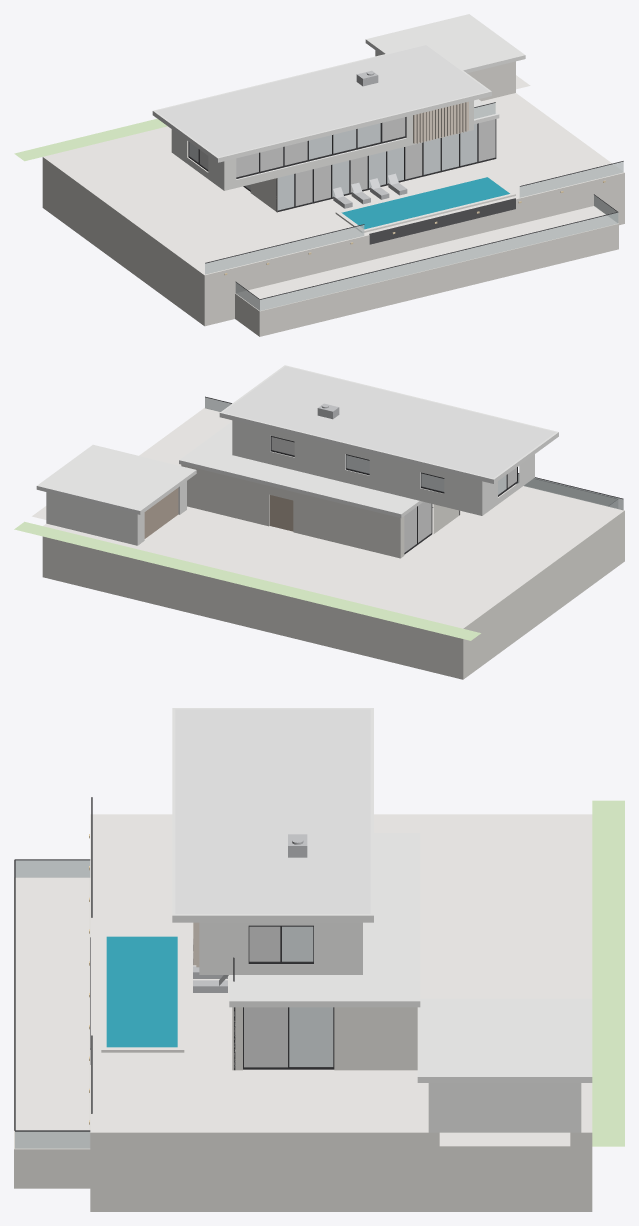
The model's file is mansion_w150a.glb.
The picture shows the model from 3 angles, top to bottom: view 1: azimuth 30°, elevation 25°; view 2: azimuth 150°, elevation 25°; view 3: azimuth 270°, elevation 25°; orthographic projection. The views are drawn at different scales.
Parts seen in each view (by area): view 1: mansion_w150a_Site, mansion_w150a_Walls2, mansion_w150a_Roof, mansion_w150a_Clear, mansion_w150a_Trim, mansion_w150a_Glass, mansion_w150a_WindowsLit, mansion_w150a_Water, mansion_w150a_Walls, mansion_w150a_Frames, mansion_w150a_Accent, mansion_w150a_Walls3 (+2 smaller); view 2: mansion_w150a_Walls2, mansion_w150a_Site, mansion_w150a_Roof, mansion_w150a_Trim, mansion_w150a_Walls, mansion_w150a_Lawn, mansion_w150a_Doors, mansion_w150a_WindowsLit, mansion_w150a_Clear, mansion_w150a_Frames, mansion_w150a_Glass; view 3: mansion_w150a_Site, mansion_w150a_Walls2, mansion_w150a_Roof, mansion_w150a_Trim, mansion_w150a_Walls, mansion_w150a_Lawn, mansion_w150a_Water, mansion_w150a_Glass, mansion_w150a_WindowsLit, mansion_w150a_Clear, mansion_w150a_Frames, mansion_w150a_Details.
Boxes of the visible parts, x1=… form: mansion_w150a_Site: x1=43, y1=75, x2=624, y2=310; mansion_w150a_Walls2: x1=42, y1=61, x2=624, y2=336; mansion_w150a_Roof: x1=156, y1=45, x2=488, y2=156; mansion_w150a_Clear: x1=205, y1=103, x2=623, y2=310; mansion_w150a_Trim: x1=152, y1=14, x2=525, y2=179; mansion_w150a_Glass: x1=189, y1=123, x2=477, y2=210; mansion_w150a_WindowsLit: x1=200, y1=117, x2=495, y2=205; mansion_w150a_Water: x1=341, y1=177, x2=509, y2=229; mansion_w150a_Walls: x1=171, y1=50, x2=473, y2=190; mansion_w150a_Frames: x1=188, y1=102, x2=623, y2=299; mansion_w150a_Accent: x1=369, y1=198, x2=515, y2=244; mansion_w150a_Walls3: x1=413, y1=101, x2=468, y2=143; mansion_w150a_Walls2: x1=42, y1=464, x2=624, y2=679; mansion_w150a_Site: x1=32, y1=407, x2=624, y2=628; mansion_w150a_Roof: x1=223, y1=366, x2=555, y2=478; mansion_w150a_Trim: x1=36, y1=365, x2=558, y2=525; mansion_w150a_Walls: x1=46, y1=420, x2=534, y2=545; mansion_w150a_Lawn: x1=14, y1=521, x2=480, y2=640; mansion_w150a_Doors: x1=144, y1=488, x2=293, y2=538; mansion_w150a_WindowsLit: x1=271, y1=437, x2=516, y2=552; mansion_w150a_Clear: x1=205, y1=397, x2=623, y2=510; mansion_w150a_Frames: x1=205, y1=396, x2=623, y2=554; mansion_w150a_Glass: x1=346, y1=455, x2=506, y2=494; mansion_w150a_Site: x1=15, y1=814, x2=592, y2=1148; mansion_w150a_Walls2: x1=14, y1=877, x2=592, y2=1211; mansion_w150a_Roof: x1=175, y1=709, x2=370, y2=913; mansion_w150a_Trim: x1=172, y1=708, x2=592, y2=1082; mansion_w150a_Walls: x1=199, y1=922, x2=581, y2=1132; mansion_w150a_Lawn: x1=592, y1=800, x2=624, y2=1146; mansion_w150a_Water: x1=106, y1=936, x2=177, y2=1047; mansion_w150a_Glass: x1=282, y1=926, x2=333, y2=1066; mansion_w150a_WindowsLit: x1=244, y1=926, x2=287, y2=1067; mansion_w150a_Clear: x1=15, y1=860, x2=90, y2=1148; mansion_w150a_Frames: x1=14, y1=797, x2=334, y2=1131; mansion_w150a_Details: x1=193, y1=834, x2=307, y2=992.
Size of the model in its own units: 150 by 46.4 by 112.
